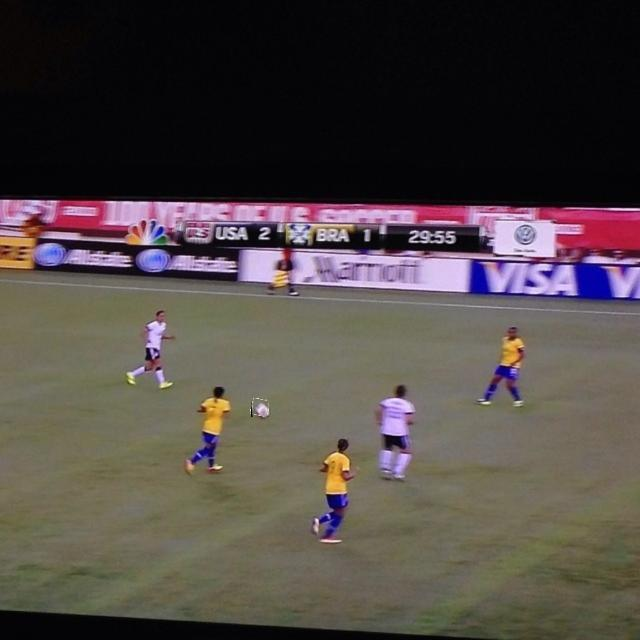Football: (251, 399, 269, 417)
